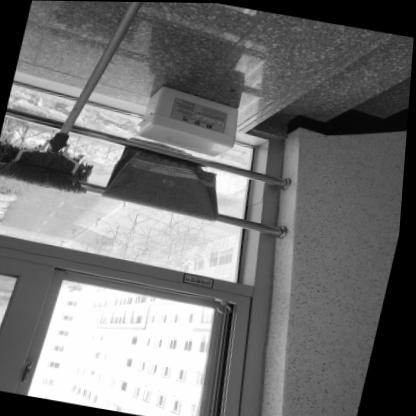DDL: (133, 80, 244, 158)
